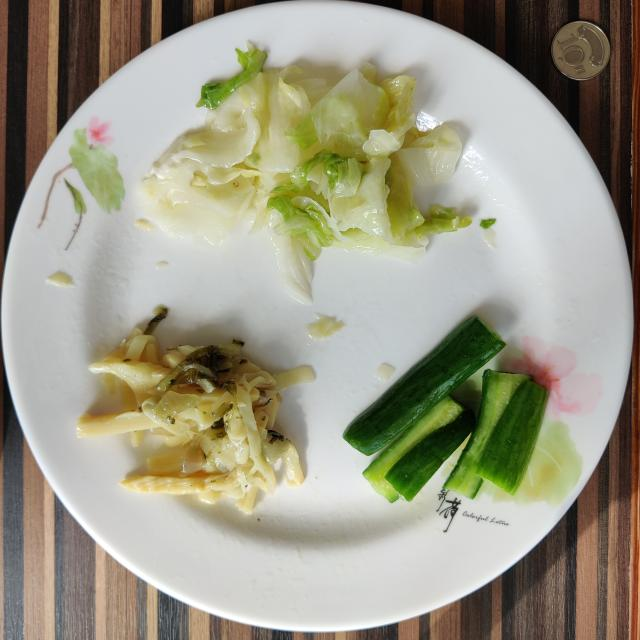cabbage: (144, 48, 471, 304)
coin: (551, 21, 610, 80)
cucumber: (344, 316, 548, 502)
